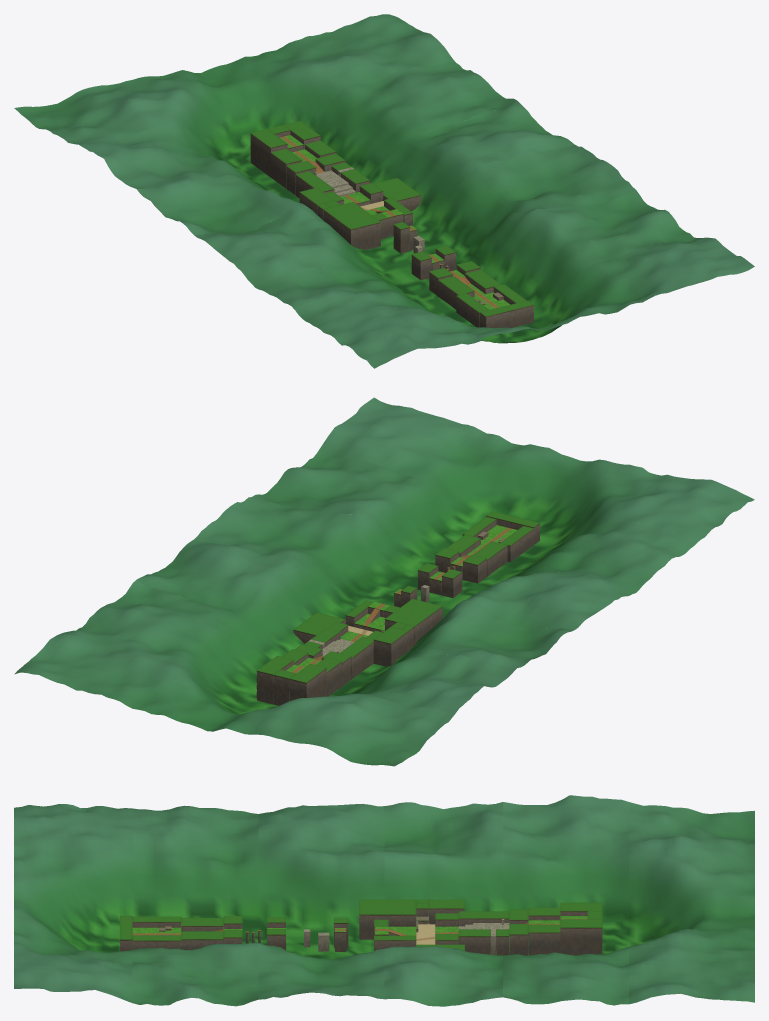
File: jungle_path_terrain.glb
3 renders of one model, top to bottom at view 1: azimuth 30°, elevation 25°; view 2: azimuth 150°, elevation 25°; view 3: azimuth 270°, elevation 25°, orthographic. The views are drawn at different scales.
Parts seen in each view (by area): view 1: backdrop_5, backdrop_2, backdrop_4, backdrop_1, backdrop_3, backdrop_0, terrain_F, terrain_H, terrain_A, terrain_B, terrain_G, terrain_C (+1 smaller); view 2: backdrop_0, backdrop_5, backdrop_2, backdrop_1, backdrop_4, backdrop_3, terrain_F, terrain_H, terrain_B, terrain_A, terrain_G, terrain_C; view 3: backdrop_5, backdrop_0, backdrop_2, backdrop_1, backdrop_4, backdrop_3, terrain_F, terrain_H, terrain_G, terrain_A, terrain_B, terrain_D (+1 smaller).
Part boxes in pixels (x1,y1,x2,y2): backdrop_5: (14,14,455,154); backdrop_2: (194,144,635,288); backdrop_4: (76,62,516,200); backdrop_1: (256,190,696,327); backdrop_3: (136,100,574,235); backdrop_0: (317,237,754,368); terrain_F: (299,178,420,249); terrain_H: (250,121,345,195); terrain_A: (456,284,533,327); terrain_B: (429,261,500,309); terrain_G: (295,162,370,198); terrain_C: (411,245,456,280); backdrop_0: (317,397,754,549); backdrop_5: (14,630,455,766); backdrop_2: (194,495,635,629); backdrop_1: (256,453,696,592); backdrop_4: (76,580,516,712); backdrop_3: (136,539,574,681); terrain_F: (293,599,442,666); terrain_H: (256,644,351,705); terrain_B: (435,534,507,583); terrain_A: (462,511,540,562); terrain_G: (304,628,373,679); terrain_C: (417,563,462,597); backdrop_5: (629,802,754,1004); backdrop_0: (14,804,132,1002); backdrop_2: (258,804,384,999); backdrop_1: (132,805,258,1006); backdrop_4: (503,795,628,1005); backdrop_3: (384,802,502,1006); terrain_F: (359,899,464,950); terrain_H: (509,902,602,955); terrain_G: (458,911,509,955); terrain_A: (120,915,181,951); terrain_B: (181,916,242,949); terrain_D: (304,918,348,951).
Bounding box in the file's own units: 427 × 61.91 × 700.
